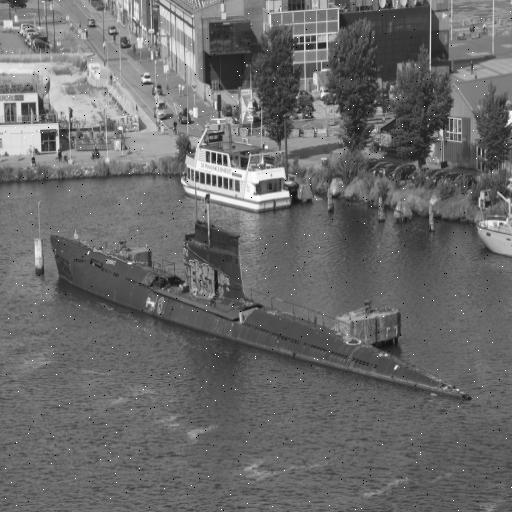submarine: (39, 221, 473, 401)
